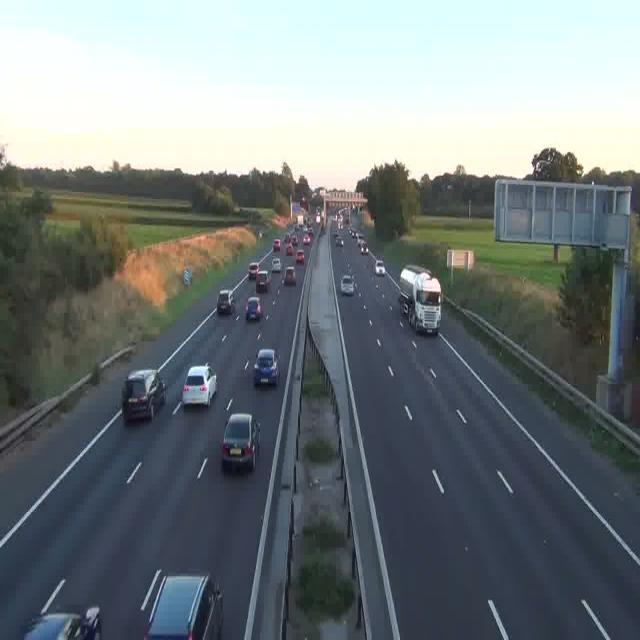car: (146, 573, 223, 640), (22, 605, 100, 640), (122, 369, 166, 420), (221, 414, 260, 471), (181, 364, 217, 406), (253, 348, 279, 386), (216, 289, 234, 314), (245, 295, 262, 320), (254, 273, 268, 292), (341, 275, 354, 294), (249, 261, 262, 280), (284, 268, 296, 286), (374, 260, 386, 276), (296, 250, 304, 263), (273, 238, 281, 251), (304, 235, 312, 246), (360, 242, 368, 253), (336, 236, 344, 246), (355, 231, 362, 242)
truck: (398, 266, 442, 333)
